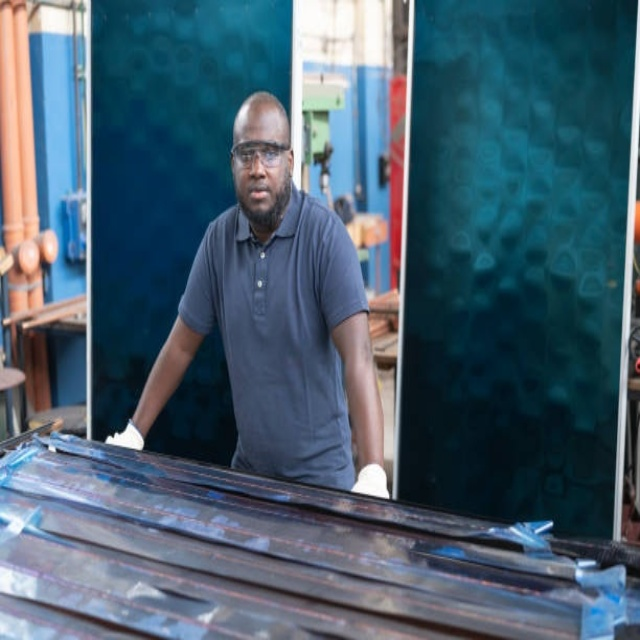Gafas: (232, 141, 291, 169)
Guantes: (351, 463, 390, 499), (105, 419, 145, 451)
Sin_mascara: (246, 179, 275, 209)
